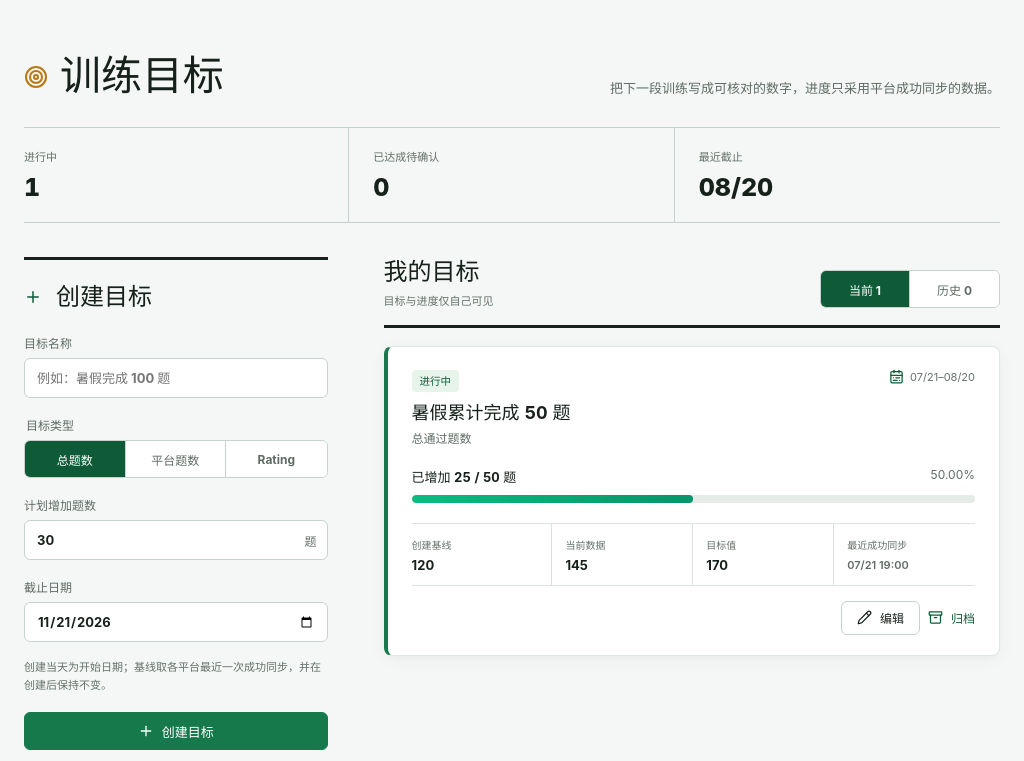
TrainingGoalsPage › surfaces missing successful-sync data when goal creation cannot freeze a baseline
Check: the heading "暑假累计完成 50 题" is shown, box [412, 400, 571, 424]
In the field labelled "目标名称": (176, 378) [24, 358, 328, 398], type "AtCoder 达到 1200"
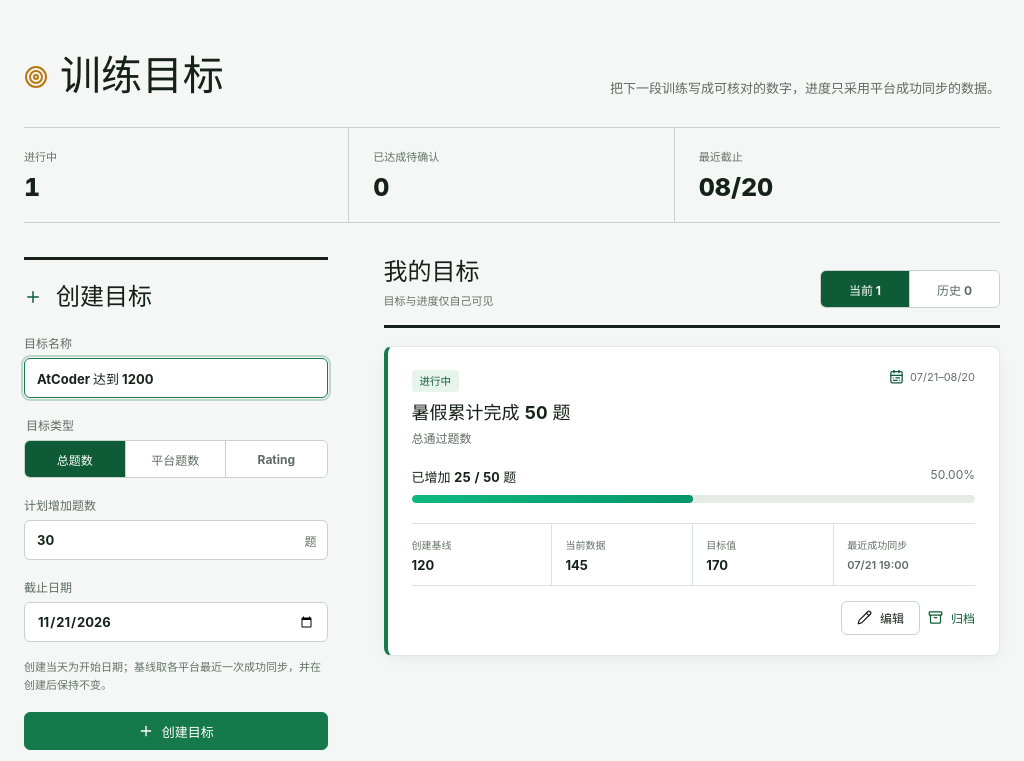
Click the button "Rating": (276, 459) [226, 441, 327, 477]
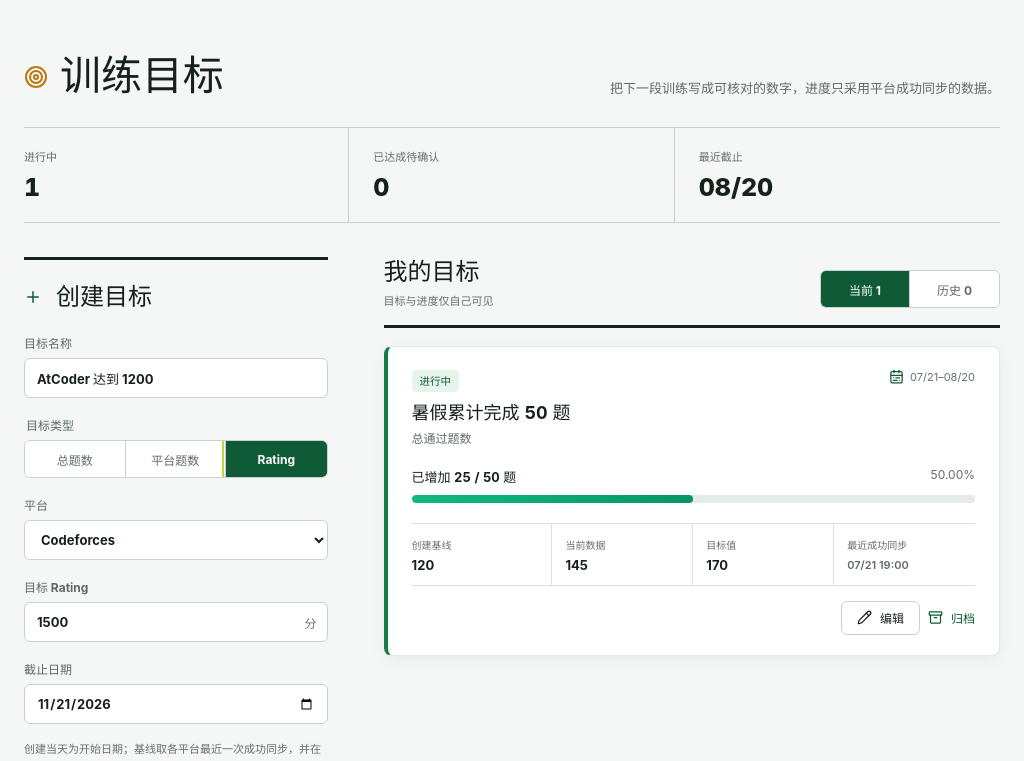
Select "AtCoder" in the dropdown labelled "平台": (176, 540) [24, 520, 328, 560]
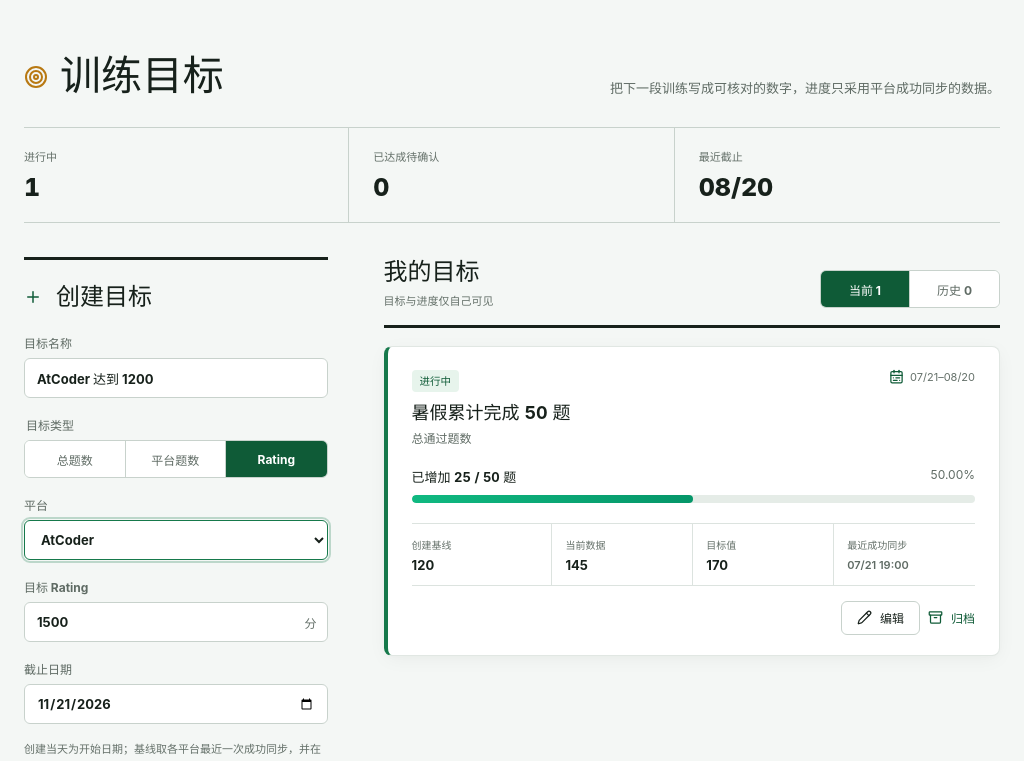
Replace the text in the number field labelled "目标 Rating" with "1200": (176, 622) [24, 602, 328, 642]
(page scrolled)
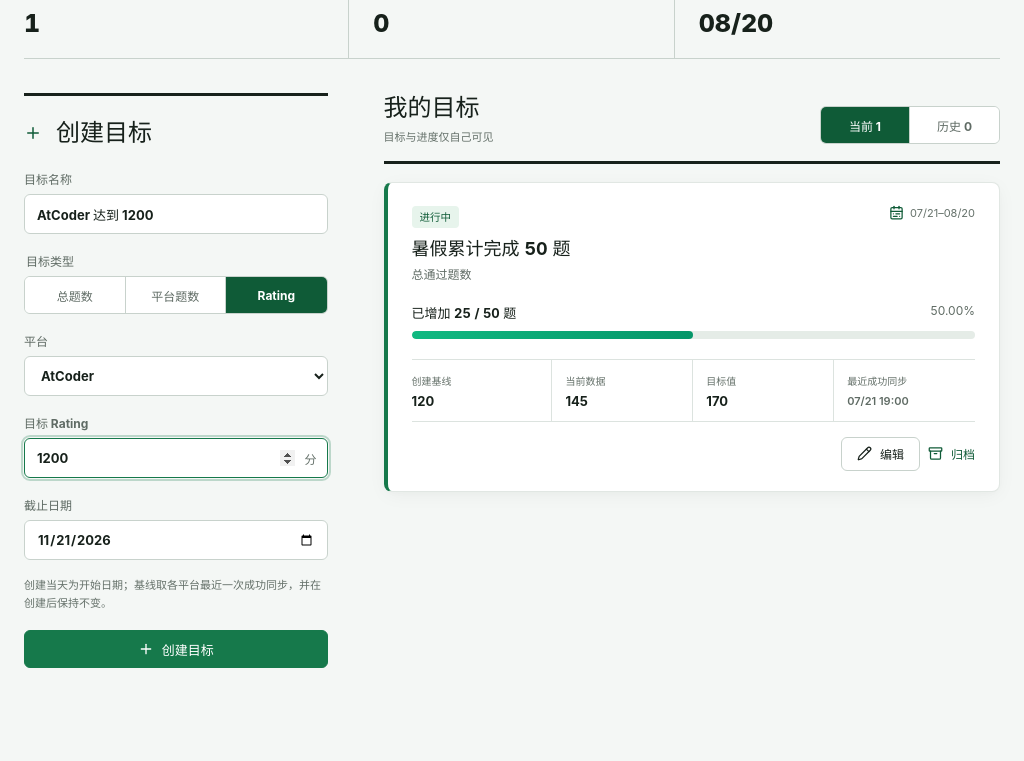
Click the button "创建目标": (176, 649) [24, 630, 328, 668]
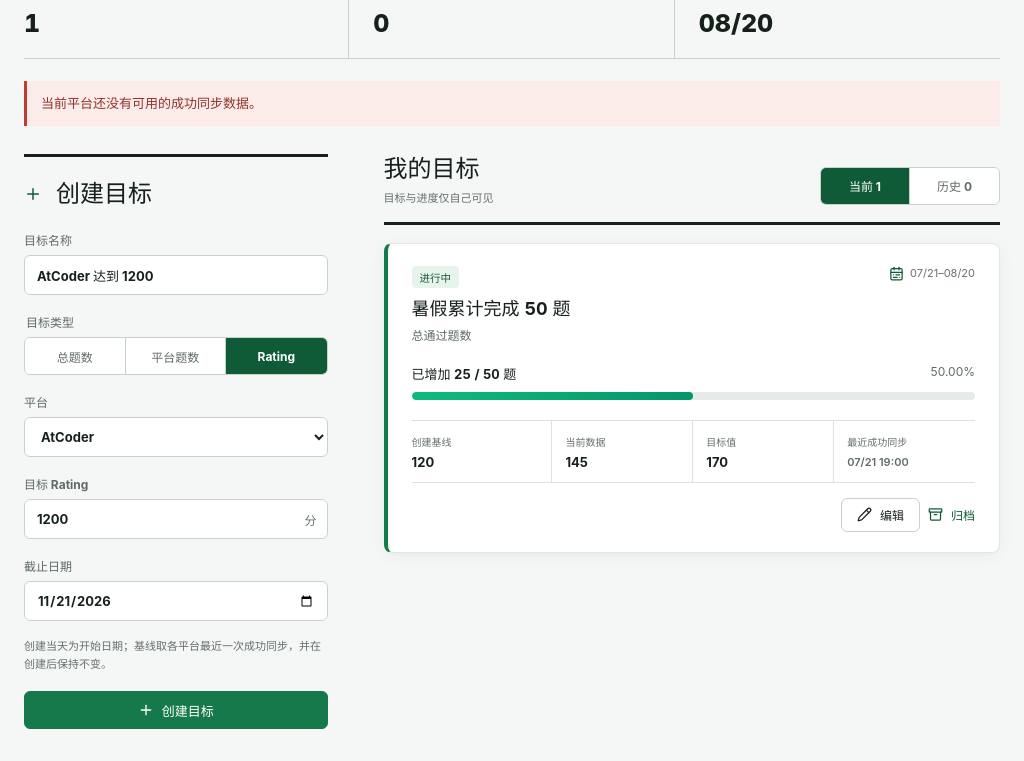
Check: the message reads "当前平台还没有可用的成功同步数据。", box [41, 95, 262, 111]
